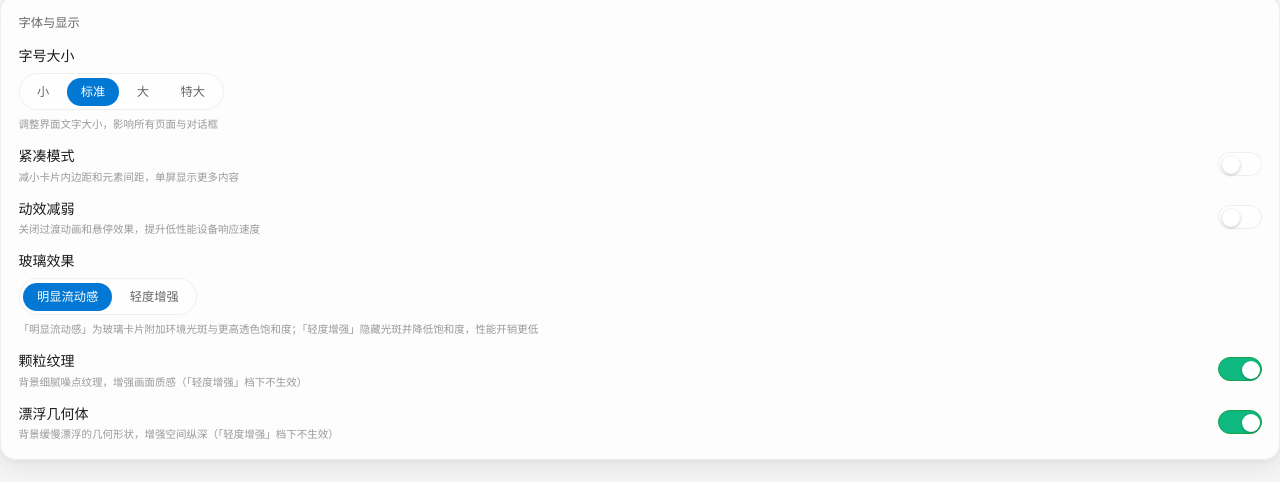
Test case: AppearanceDisplaySection — 档位控件统一接入 SegmentedControl › 点 radio「轻度增强」：写设置 + 挂 glass-lite 类 + 氛围开关转为禁用
Check: the text "玻璃效果" is shown, box [18,251,74,270]
Click the radio button labelled "轻度增强": (154, 296) [116,282,193,310]
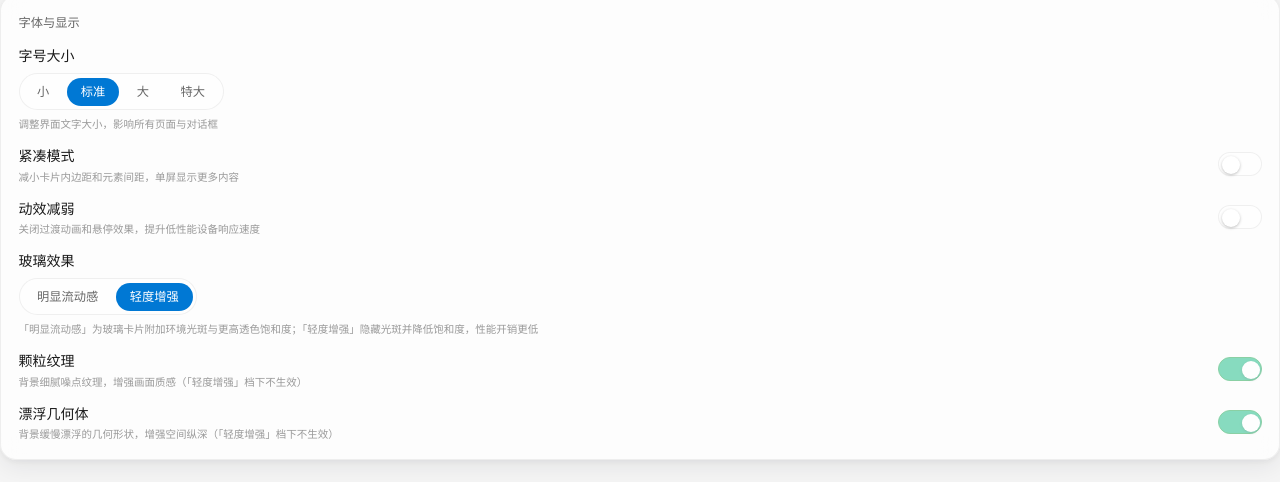
Check: the switch named "颗粒纹理" in the row of "背景细腻噪点纹理，增强画面质感（「轻度增强」档下不生效）" is disabled, box [1218,357,1262,381]
Check: the switch named "漂浮几何体" in the row of "背景缓慢漂浮的几何形状，增强空间纵深（「轻度增强」档下不生效）" is disabled, box [1218,410,1262,434]
